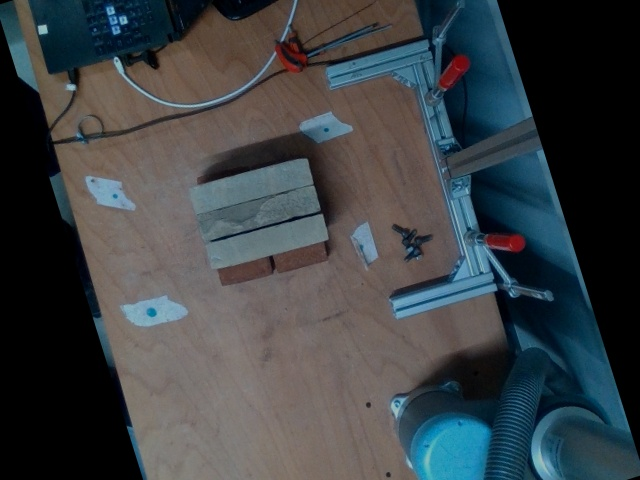brick-side: (187, 158, 312, 214), (203, 213, 328, 269), (195, 185, 319, 240)
